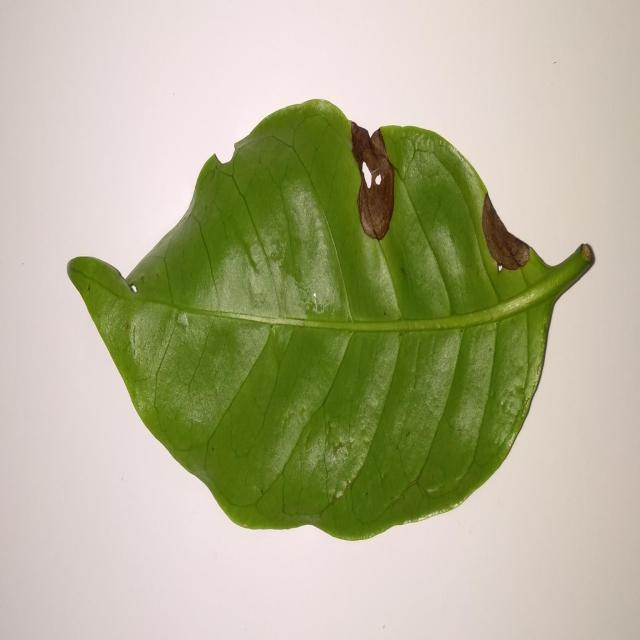Enfermedad-Antracnosis: (65, 99, 596, 545)
